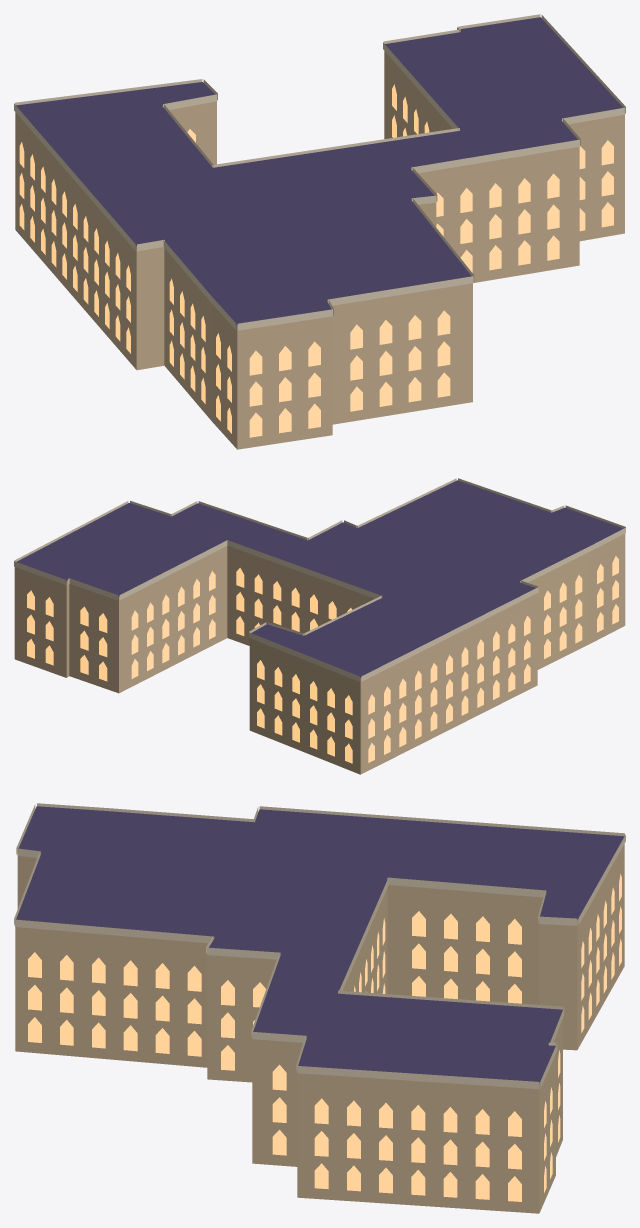
The model's file is core-lawson-hall.glb.
The picture shows the model from 3 angles, top to bottom: view 1: azimuth 30°, elevation 25°; view 2: azimuth 150°, elevation 25°; view 3: azimuth 270°, elevation 25°; orthographic projection. The views are drawn at different scales.
Parts seen in each view (by area): view 1: campus/core-lawson-hall-0; view 2: campus/core-lawson-hall-0; view 3: campus/core-lawson-hall-0.
Part boxes in pixels (x1=…): campus/core-lawson-hall-0: x1=14, y1=14, x2=625, y2=449; campus/core-lawson-hall-0: x1=14, y1=478, x2=625, y2=774; campus/core-lawson-hall-0: x1=14, y1=803, x2=625, y2=1213.
Size of the model in its own units: 60.71 by 13.45 by 56.35.
